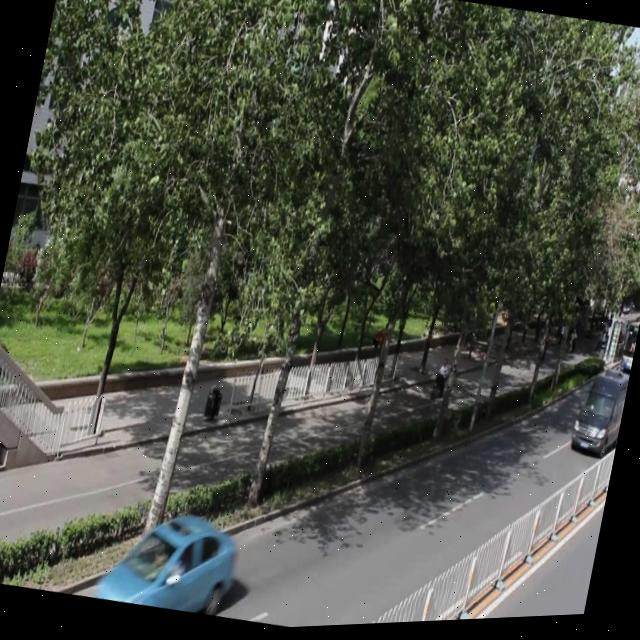car: (95, 497, 242, 624)
truck: (568, 367, 630, 463)
